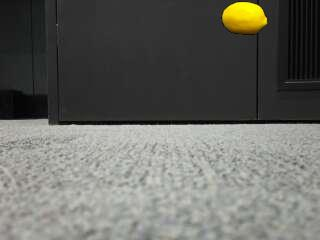lemon: (222, 2, 266, 34)
